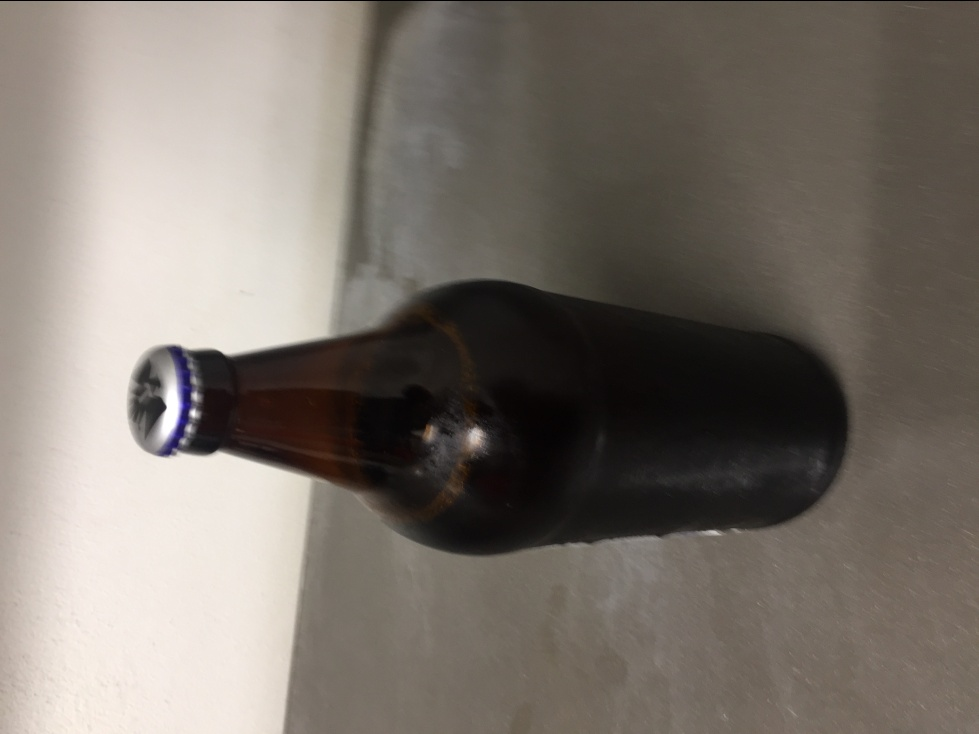tecateC: (123, 280, 846, 556)
